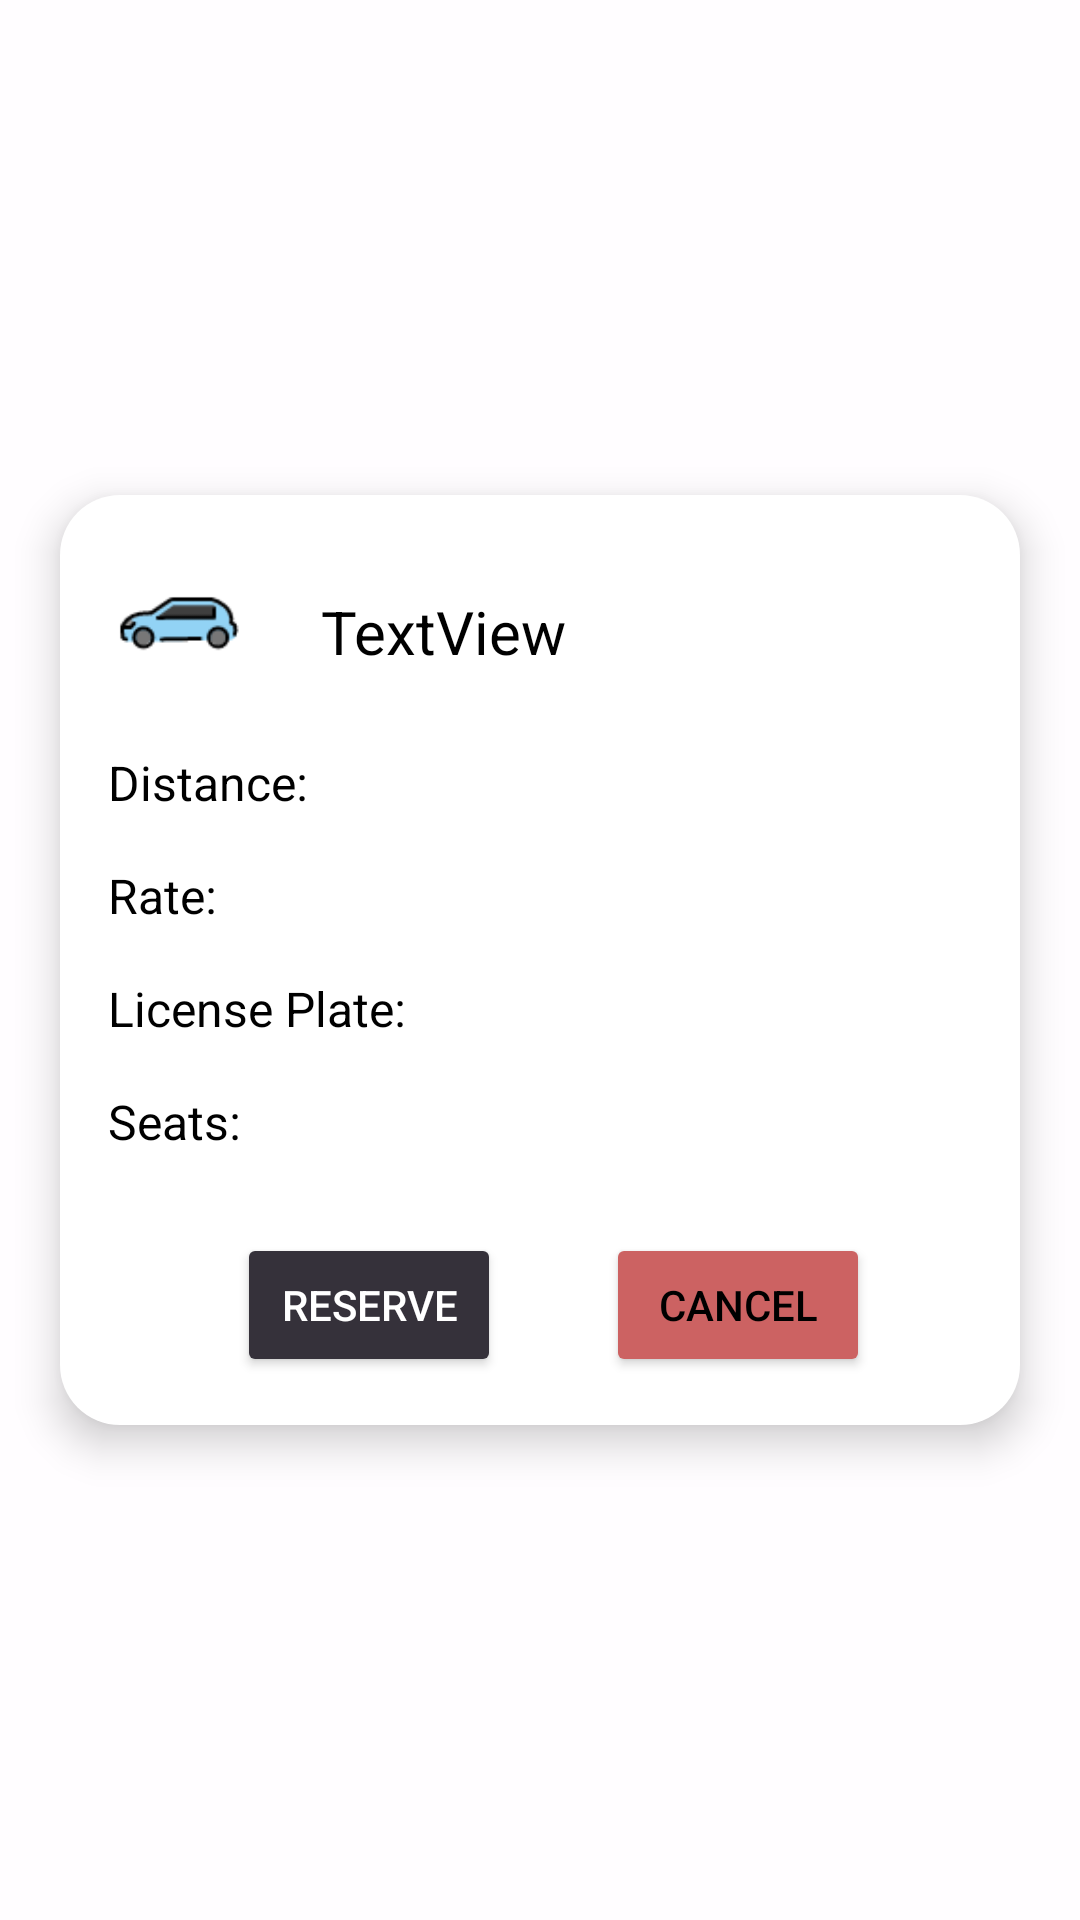

Icon click points for this 1080px×1920px phone screenshot, format (x=x, y=y):
in city car: (x=179, y=623)
